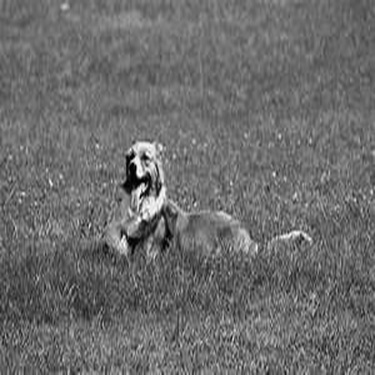dog: (79, 125, 322, 274)
